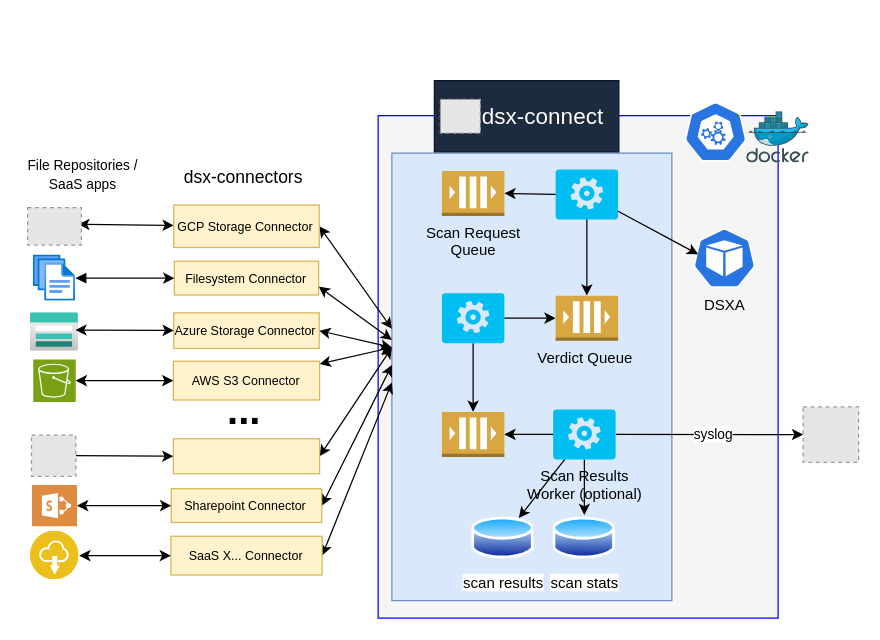
Image size: 880x640. Some labels were removed from this diagram. Grey dashed boxes stand in for pictures. Each missing label, with the centre of its shape:
OCI Connector: point 246,456
Scan Request Worker: point 586,194
Scan Results Queue: point 472,434
Verdict Worker: point 472,317
